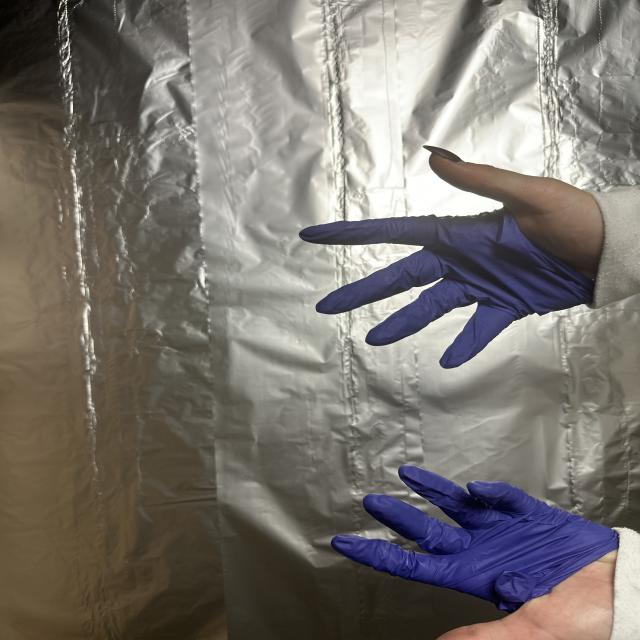glove_partial: (295, 144, 602, 372), (326, 464, 623, 640)
